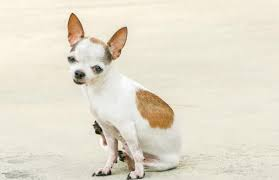chihuahua: (52, 10, 188, 180)
